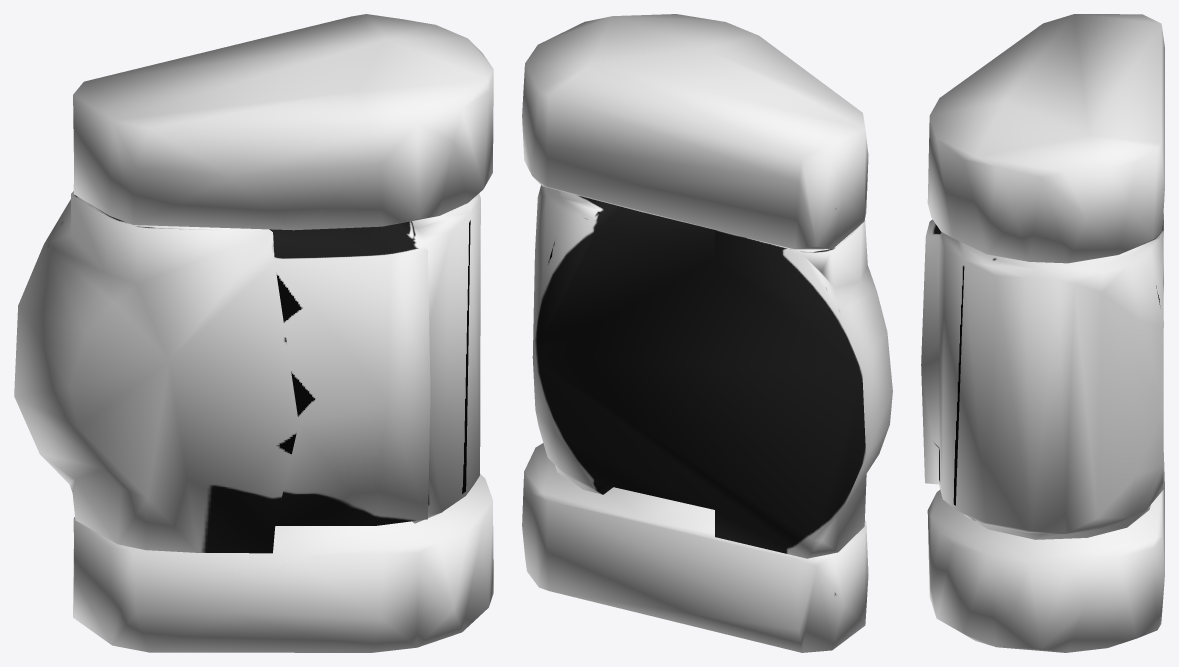
The model's file is head_pan_link.OBJ.
3 views of the same model, side by side, from view 1: azimuth 30°, elevation 25°; view 2: azimuth 150°, elevation 25°; view 3: azimuth 270°, elevation 25° (orthographic). The views are drawn at different scales.
Visible parts, largest first — view 1: /ambf/env/pr2/head_pan_link_/ambf/env/pr2/head_pan_link_head_pan; view 2: /ambf/env/pr2/head_pan_link_/ambf/env/pr2/head_pan_link_head_pan; view 3: /ambf/env/pr2/head_pan_link_/ambf/env/pr2/head_pan_link_head_pan.
Part boxes in pixels (bbox=[...]): /ambf/env/pr2/head_pan_link_/ambf/env/pr2/head_pan_link_head_pan: bbox=[14, 14, 493, 652]; /ambf/env/pr2/head_pan_link_/ambf/env/pr2/head_pan_link_head_pan: bbox=[522, 14, 892, 652]; /ambf/env/pr2/head_pan_link_/ambf/env/pr2/head_pan_link_head_pan: bbox=[921, 14, 1164, 652].
Size of the model in its own units: 0.2522 by 0.3216 by 0.1441.
